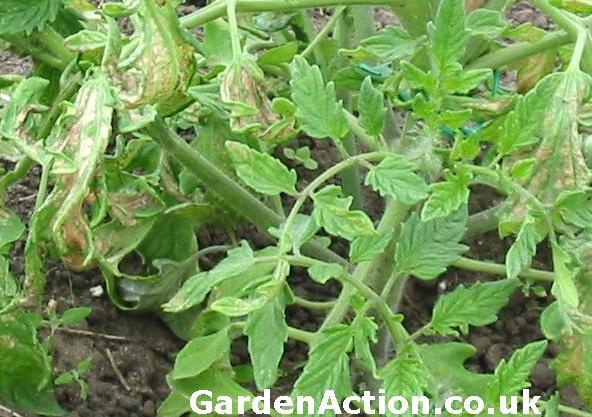Tomato leaf mosaic virus: (395, 186, 471, 282), (487, 73, 562, 166), (167, 234, 253, 315), (424, 279, 520, 341), (289, 54, 351, 140), (246, 280, 290, 385), (226, 138, 297, 199), (483, 336, 546, 400), (311, 189, 374, 248), (431, 0, 468, 90), (368, 157, 429, 207), (0, 0, 63, 42), (544, 183, 592, 225)
